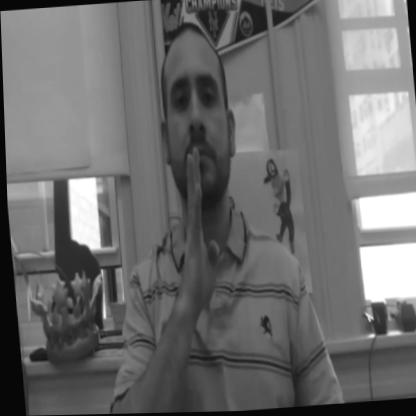Talk: (153, 7, 254, 313)
